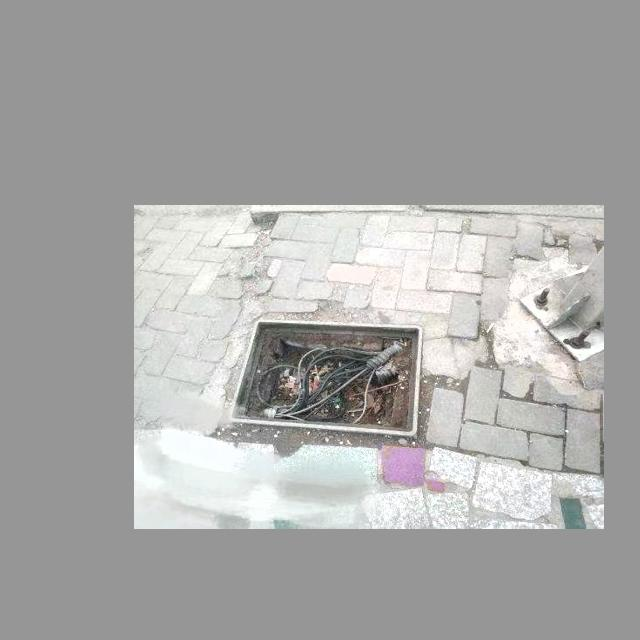lose: (243, 315, 422, 439)
